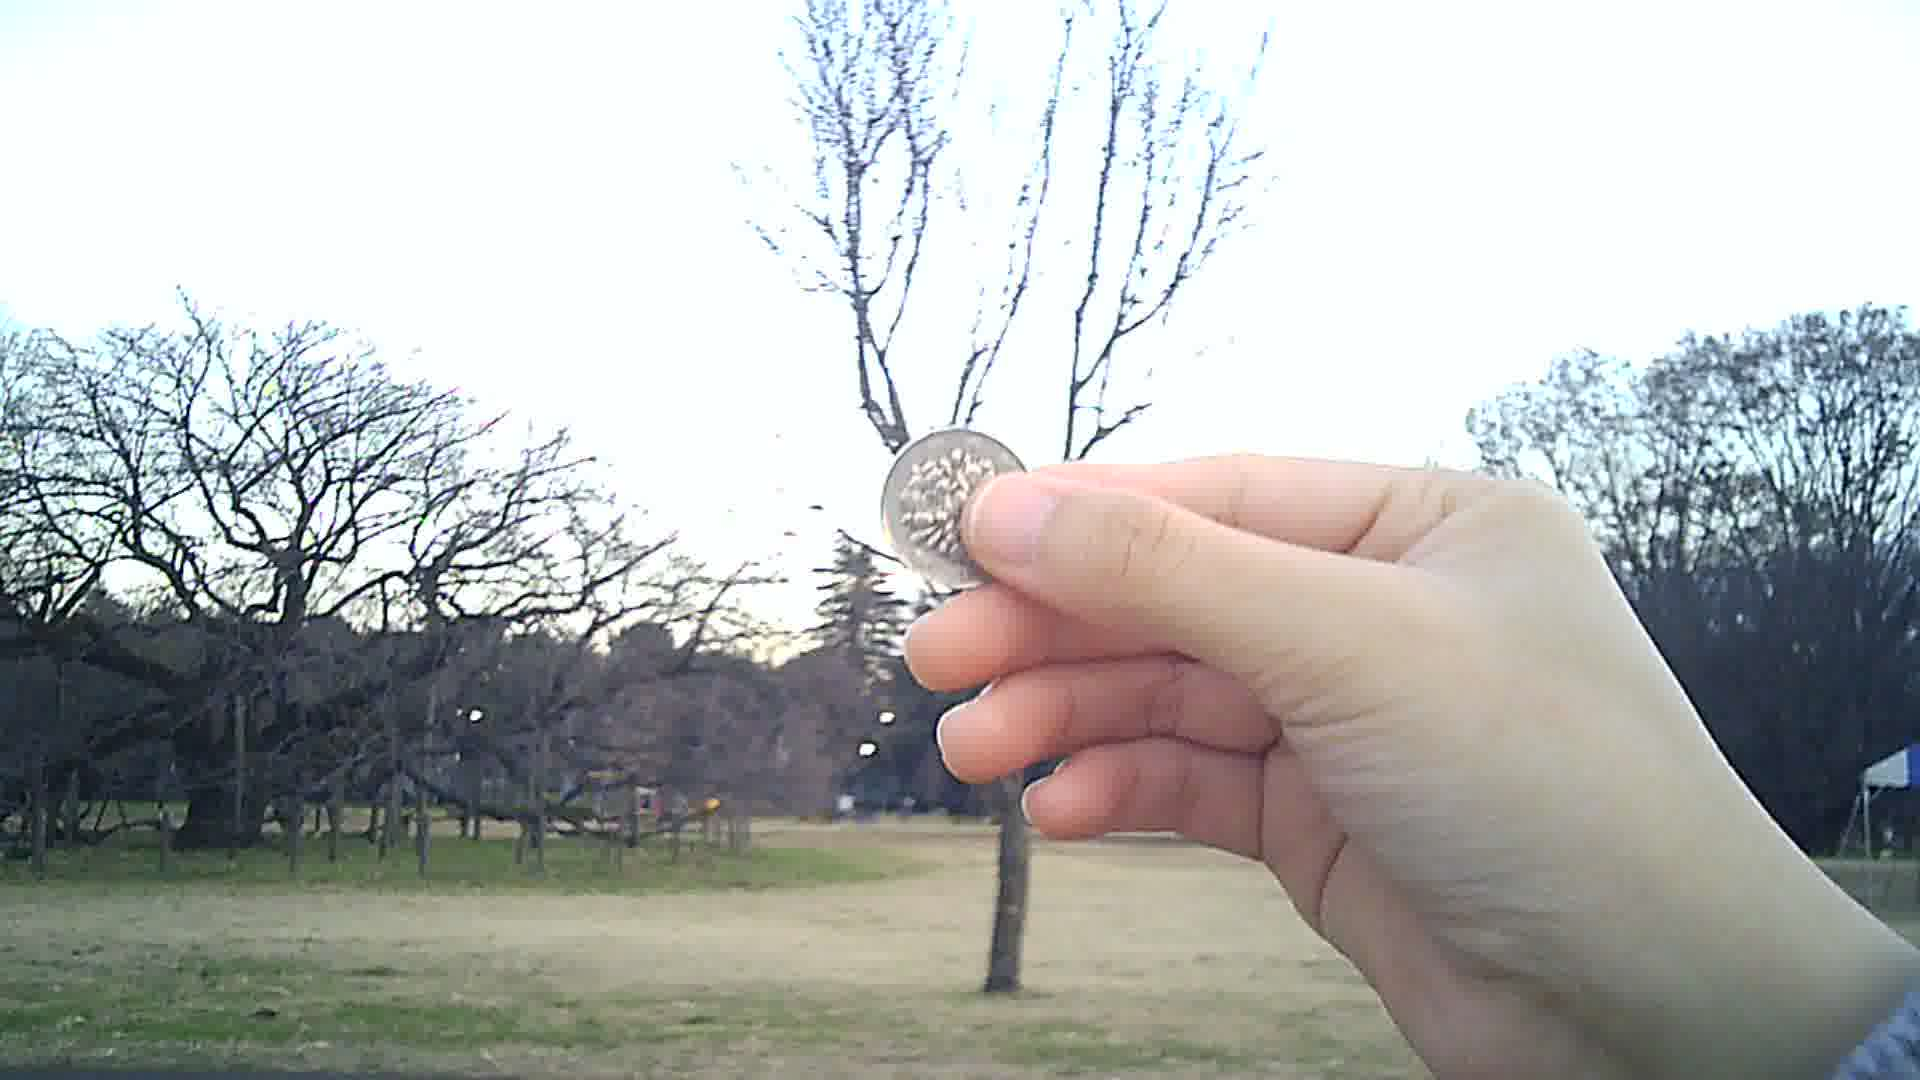100 Yen: (873, 429, 1036, 603)
